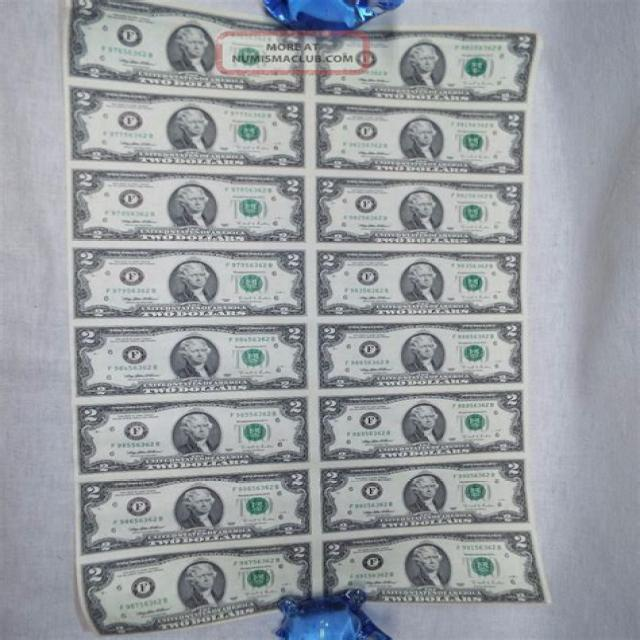Two: (85, 538, 318, 637), (316, 527, 551, 625), (61, 0, 306, 94), (82, 469, 316, 562), (74, 86, 314, 169), (78, 391, 312, 473), (71, 318, 313, 392), (313, 96, 531, 178), (72, 170, 314, 243), (309, 28, 540, 104), (314, 171, 532, 251), (69, 246, 311, 318), (313, 392, 538, 466), (311, 317, 531, 389), (317, 460, 537, 531), (312, 248, 529, 316)
